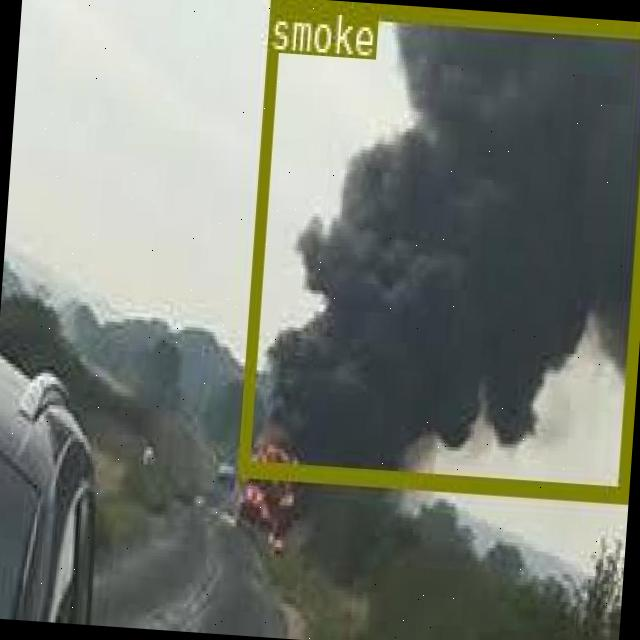smoke: (235, 0, 640, 497)
